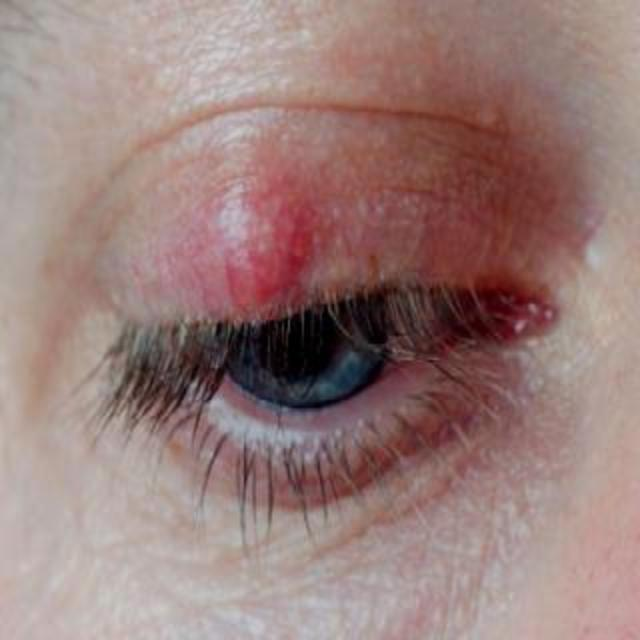Stye: (128, 140, 384, 383)
